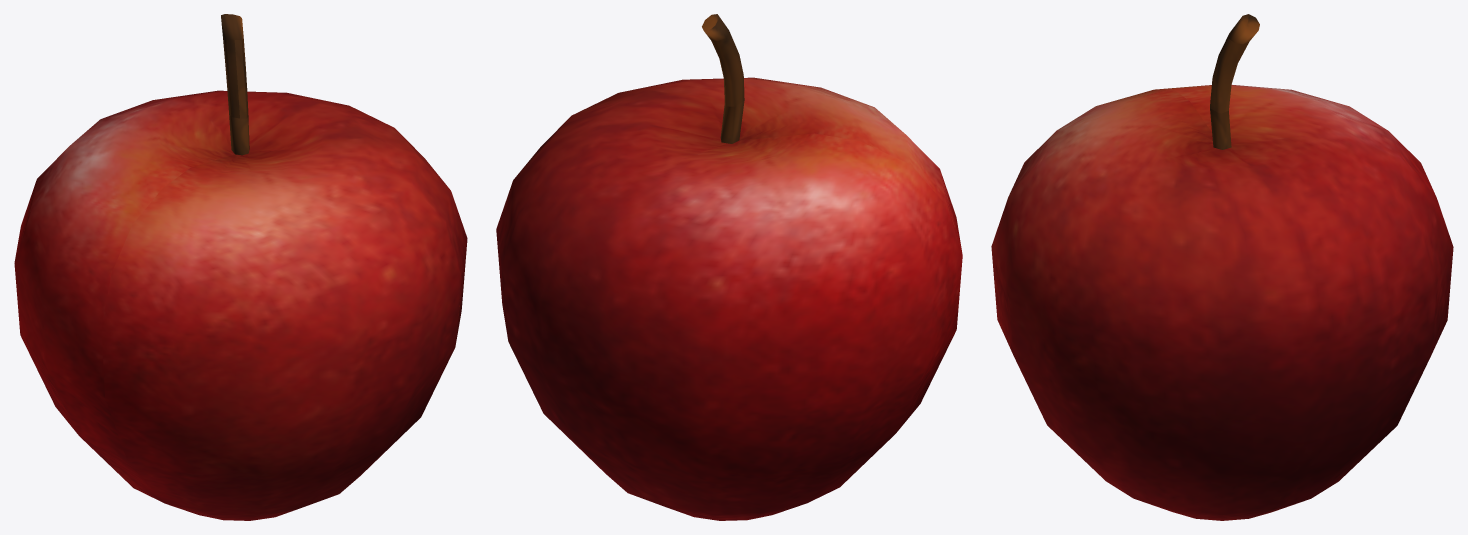
Rendered from 002-Apple.FBX.
The picture shows the model from 3 angles, left to right: view 1: azimuth 30°, elevation 25°; view 2: azimuth 150°, elevation 25°; view 3: azimuth 270°, elevation 25°; orthographic projection. The views are drawn at different scales.
Parts seen in each view (by area): view 1: 002-Apple; view 2: 002-Apple; view 3: 002-Apple.
Boxes of the visible parts, x1=… form: 002-Apple: x1=14, y1=14, x2=467, y2=520; 002-Apple: x1=496, y1=14, x2=962, y2=520; 002-Apple: x1=991, y1=14, x2=1453, y2=520.
Size of the model in its own units: 11.17 by 13.08 by 11.17.
